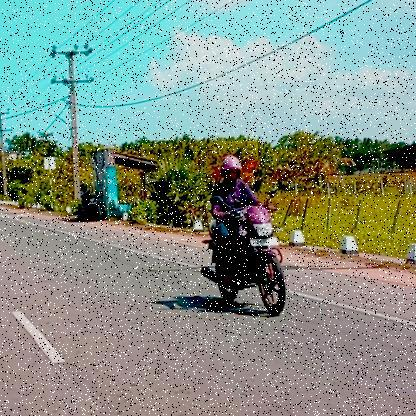motorcycle: (198, 204, 298, 318)
